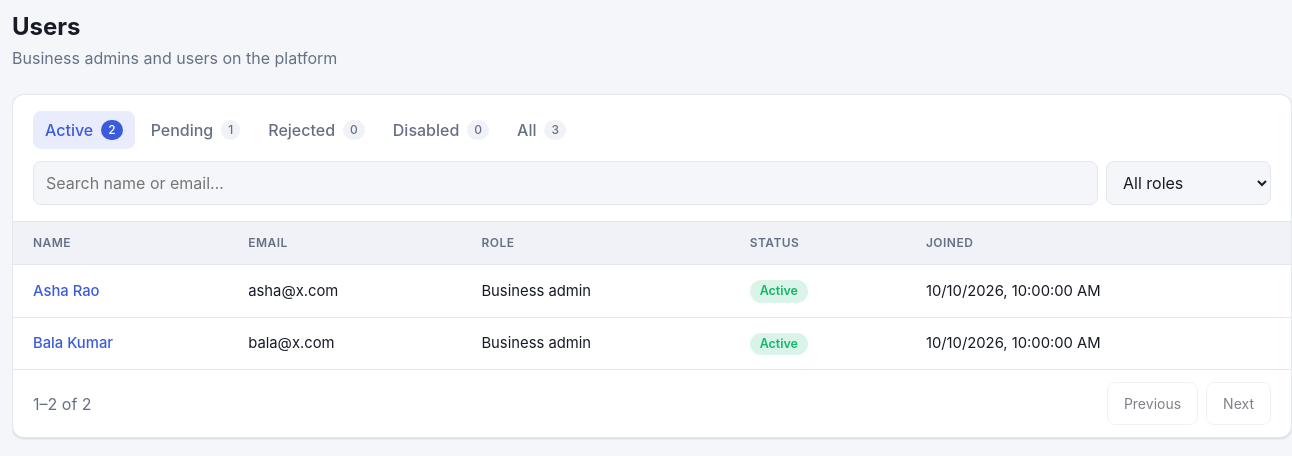
Test: UsersPage › searches after a short pause
Expected: the button "Asha Rao" is shown, [33,280,100,302]
Type "bala" into the search field named "Search users". click: (566, 183)
box: [33,161,1098,205]
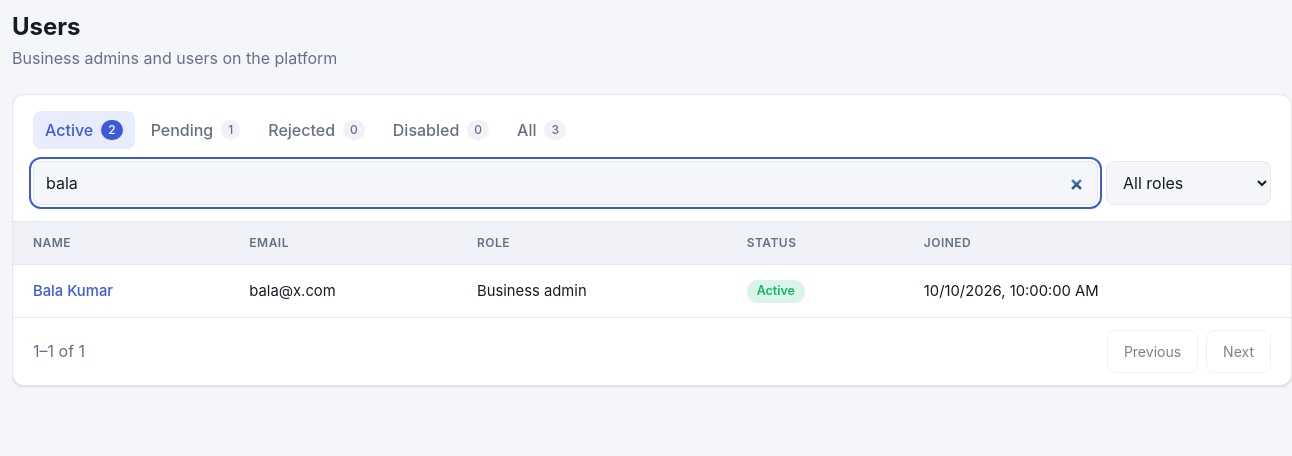
Expected: the button "Bala Kumar" is shown, [33,280,113,302]
Now the button "Asha Rao" is gone
